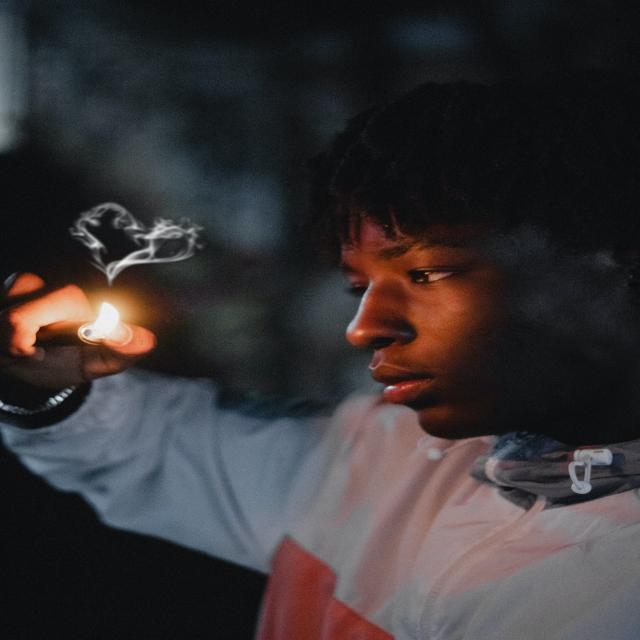fire: (76, 285, 131, 355)
